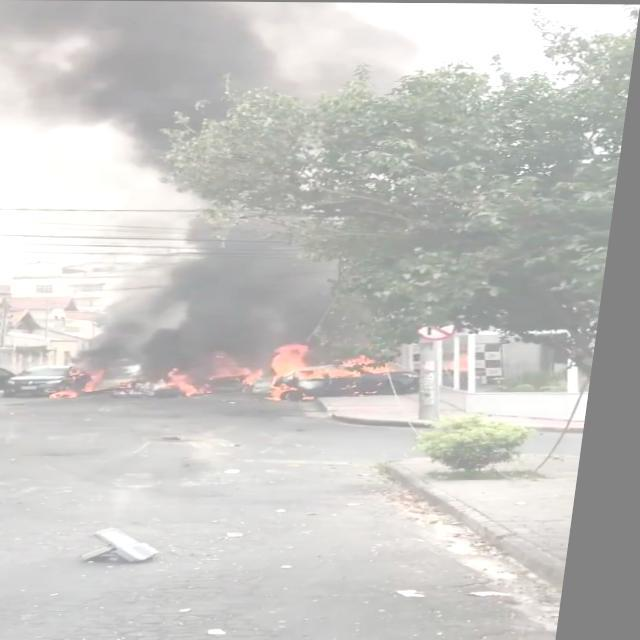Fire: (279, 342, 400, 400), (58, 369, 115, 400), (168, 369, 216, 396)
